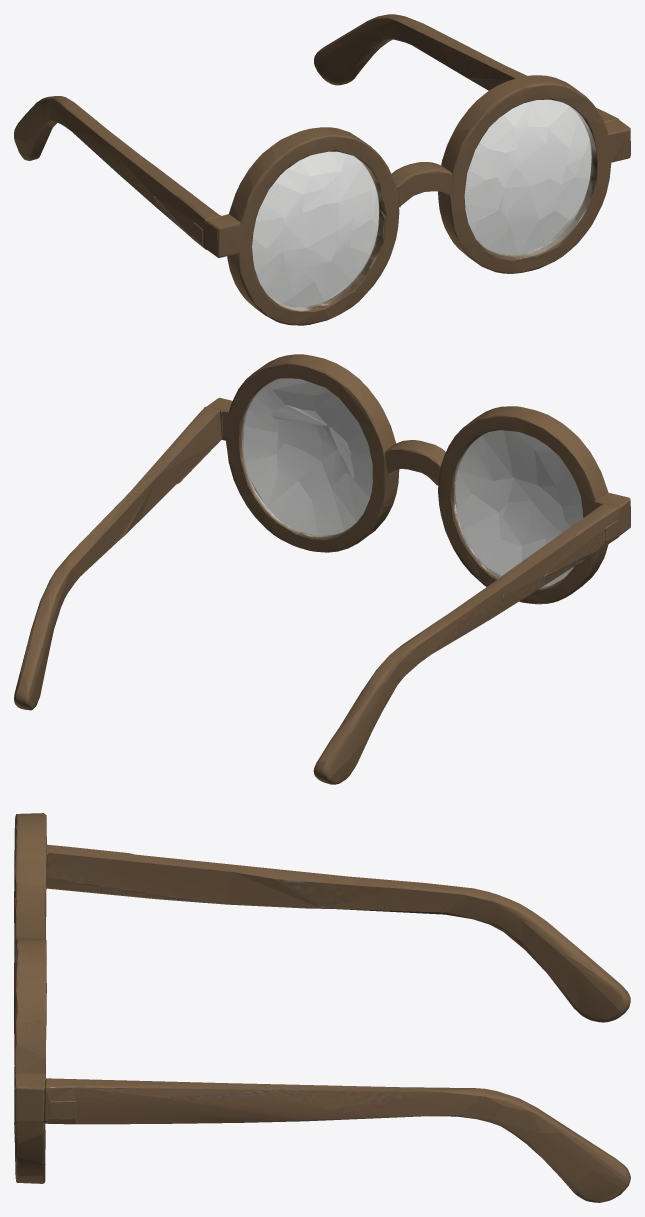
The model's file is glasses.glb.
3 renders of one model, top to bottom at view 1: azimuth 30°, elevation 25°; view 2: azimuth 150°, elevation 25°; view 3: azimuth 270°, elevation 25°, orthographic. The views are drawn at different scales.
Bounding box in the file's own units: 1.79 × 0.7634 × 1.9.
Materials: 1 (1 with a texture image).
